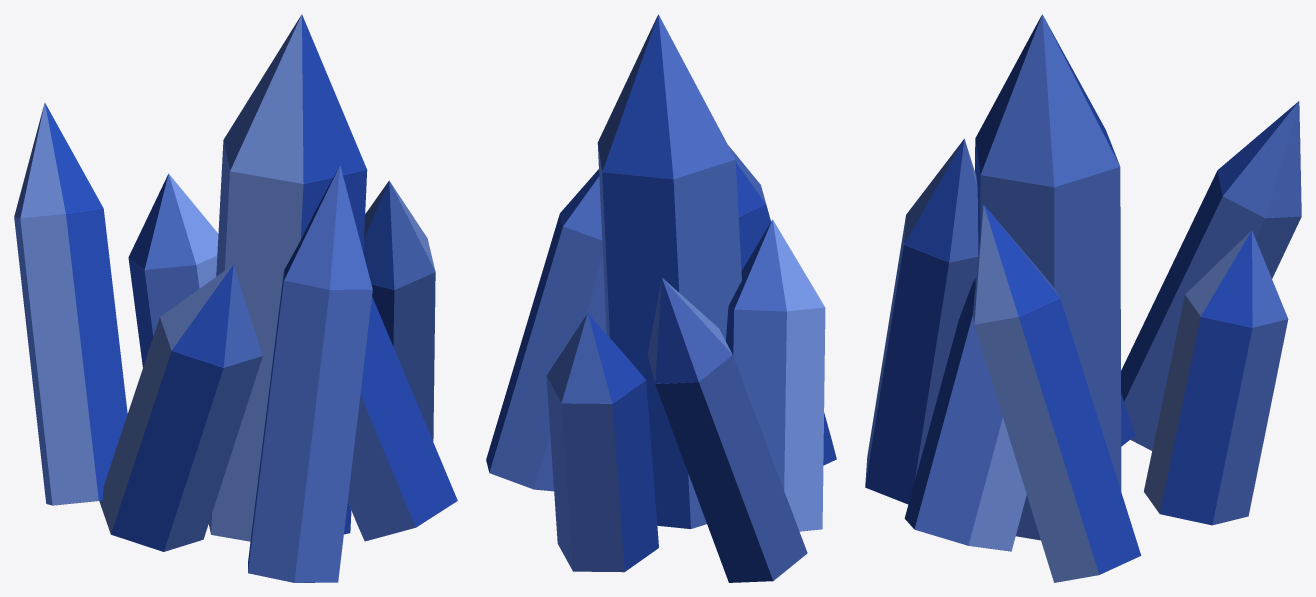
Rendered from recipe-azure.glb.
The picture shows the model from 3 angles, left to right: view 1: azimuth 30°, elevation 25°; view 2: azimuth 150°, elevation 25°; view 3: azimuth 270°, elevation 25°; orthographic projection. The views are drawn at different scales.
Visible parts, largest first — view 1: recipe-azure seven-prism cluster.001; view 2: recipe-azure seven-prism cluster.001; view 3: recipe-azure seven-prism cluster.001.
Part boxes in pixels (x1,y1,x2,y2): recipe-azure seven-prism cluster.001: (14,14,457,582); recipe-azure seven-prism cluster.001: (486,14,836,582); recipe-azure seven-prism cluster.001: (865,14,1301,582).
Bounding box in the file's own units: 6.71 × 9.1 × 7.08.
